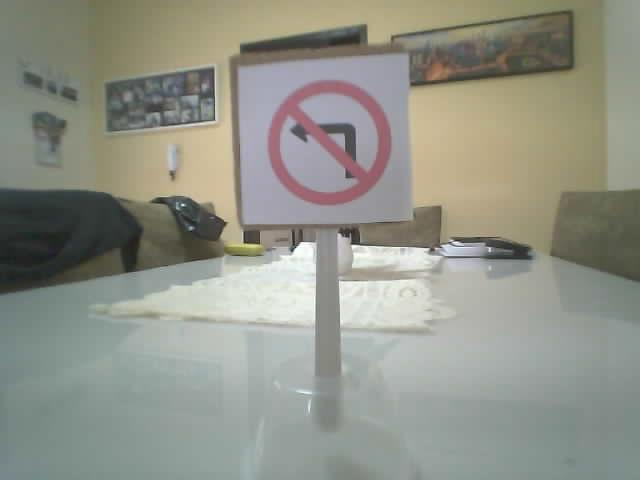R-4a_proibido-esquerda: (266, 78, 393, 206)
